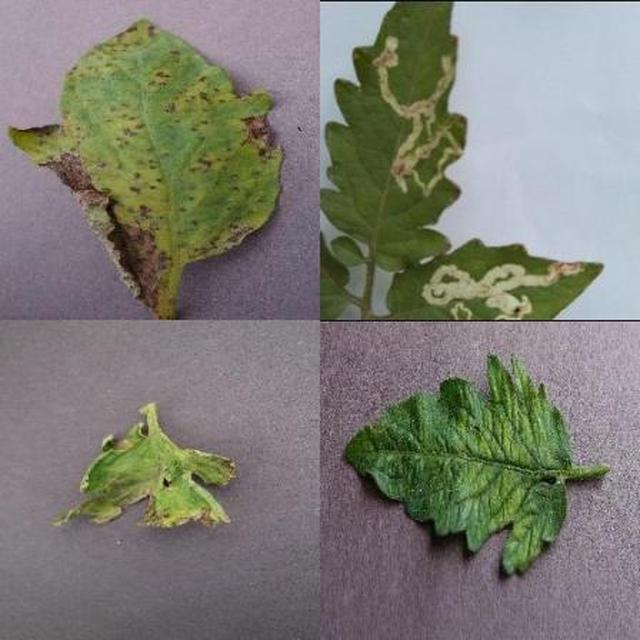Septoria Leaf: (209, 118, 640, 640)
